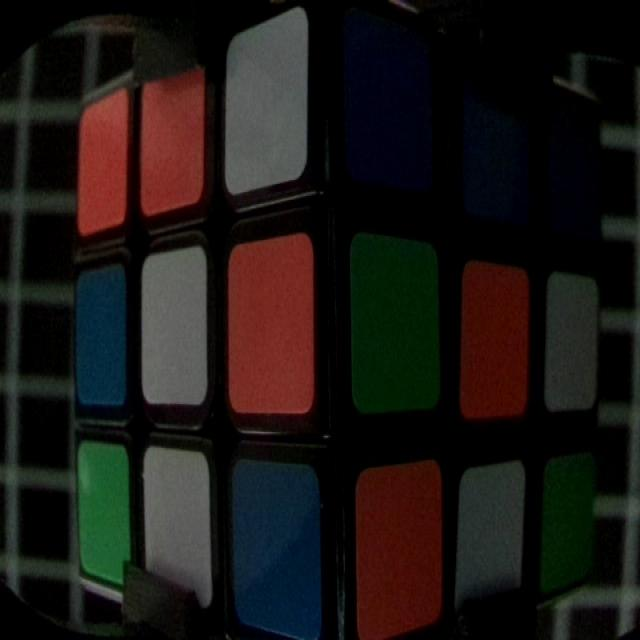b: (229, 461, 325, 628), (355, 34, 443, 190), (464, 61, 528, 210), (78, 268, 122, 403), (554, 106, 598, 227)
g: (352, 239, 437, 398), (546, 459, 596, 580), (81, 451, 124, 568)
o: (228, 248, 312, 405), (360, 466, 440, 628), (463, 264, 528, 417), (144, 54, 204, 210), (82, 88, 127, 232)
w: (220, 10, 308, 192), (142, 443, 213, 620), (455, 466, 527, 614), (142, 251, 207, 404), (550, 275, 598, 401)
